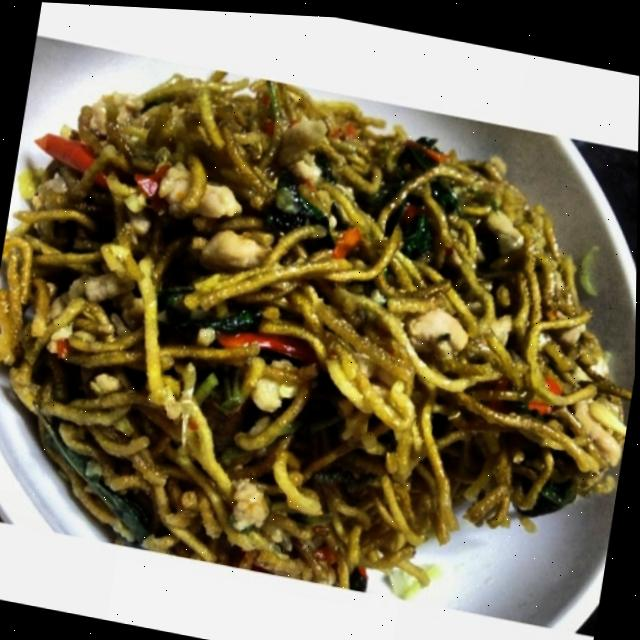面条主食: (0, 38, 640, 625)
